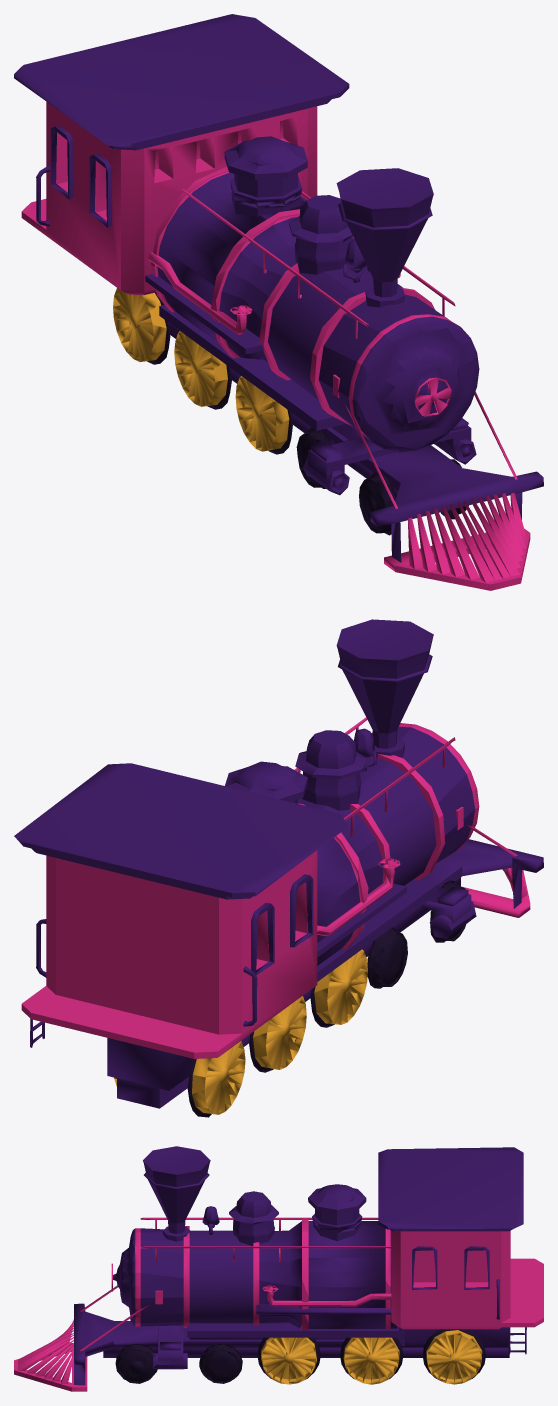
The model's file is kiddie-engine.glb.
3 views of the same model, one above another, from view 1: azimuth 30°, elevation 25°; view 2: azimuth 150°, elevation 25°; view 3: azimuth 270°, elevation 25° (orthographic). The views are drawn at different scales.
Visible parts, largest first — view 1: BigWheels1; view 2: BigWheels1; view 3: BigWheels1.
Part boxes in pixels (box(x1,y1,x2,y2)): BigWheels1: box(14, 14, 543, 590); BigWheels1: box(14, 619, 543, 1117); BigWheels1: box(14, 1146, 543, 1391).
Bounding box in the file's own units: 2.87 × 3.58 × 8.09.
